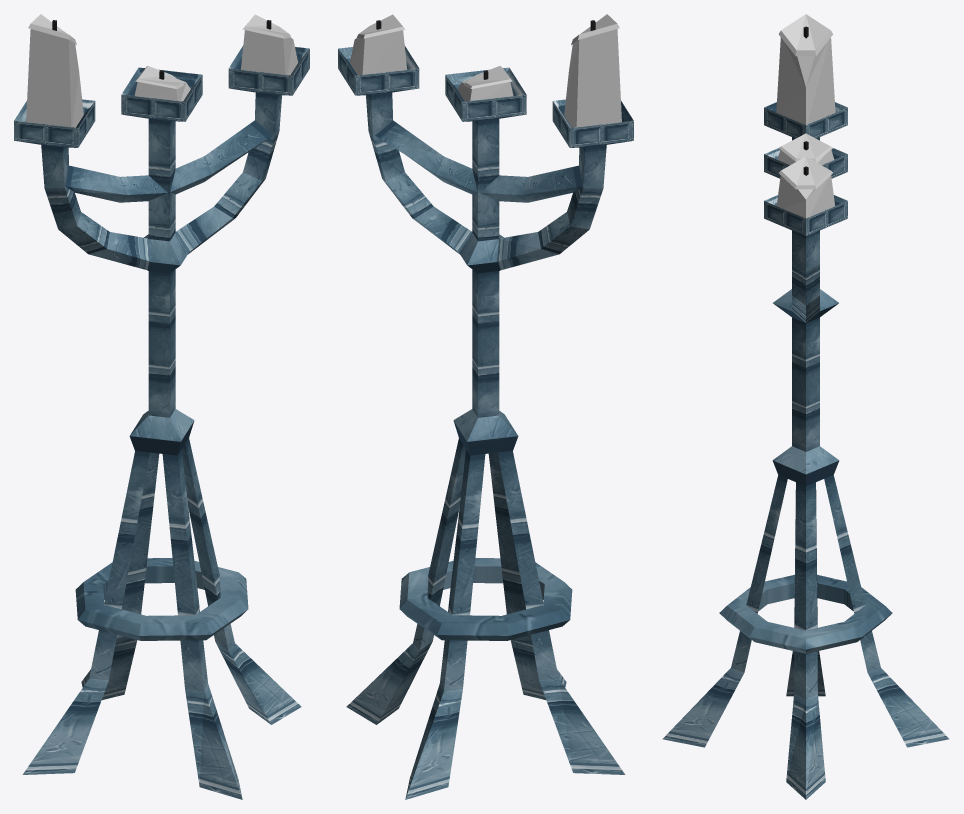
The model's file is Candlestand_unlit.fbx.
3 renders of one model, left to right at view 1: azimuth 30°, elevation 25°; view 2: azimuth 150°, elevation 25°; view 3: azimuth 270°, elevation 25°, orthographic. The views are drawn at different scales.
Parts seen in each view (by area): view 1: Candlestand_unlit; view 2: Candlestand_unlit; view 3: Candlestand_unlit.
Part boxes in pixels (x1=…): Candlestand_unlit: x1=14, y1=14, x2=309, y2=799; Candlestand_unlit: x1=338, y1=14, x2=633, y2=799; Candlestand_unlit: x1=662, y1=14, x2=949, y2=799.
Bounding box in the file's own units: 3.31 × 8.02 × 3.13.
